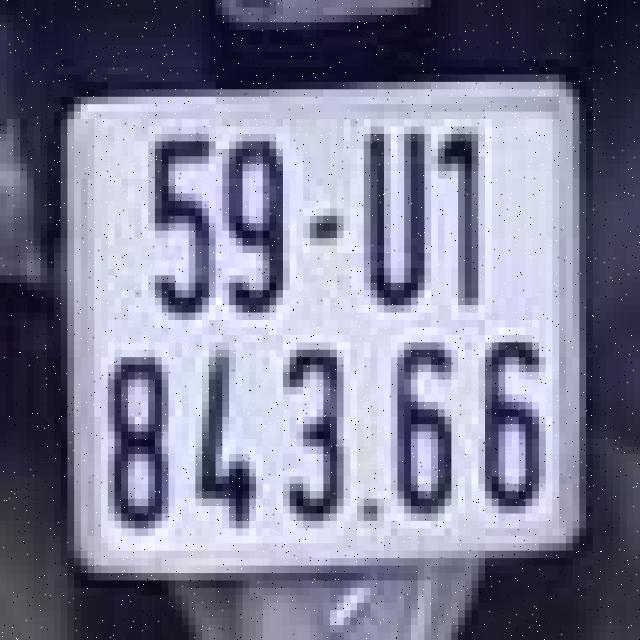1: (434, 126, 502, 312)
3: (273, 328, 354, 528)
4: (182, 342, 263, 528)
5: (145, 123, 219, 331)
6: (381, 323, 468, 524), (478, 327, 552, 521)
8: (91, 327, 185, 551)
9: (222, 130, 296, 324)
U: (357, 123, 431, 316)
